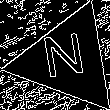N_S: (42, 32, 92, 88)
